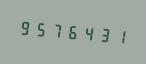five: (33, 16, 48, 41)
four: (81, 20, 96, 46)
nine: (17, 15, 32, 40)
one: (113, 23, 128, 48)
seven: (49, 18, 64, 43)
six: (65, 19, 80, 44)
three: (97, 22, 112, 47)
